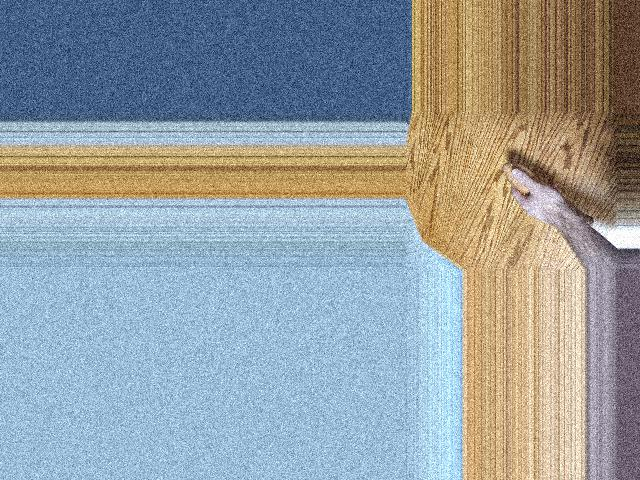sweet_potato: (501, 161, 592, 224)
